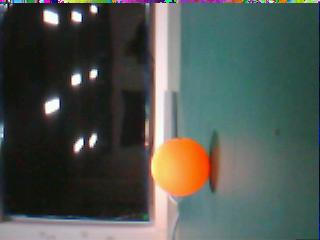oball: (151, 138, 210, 197)
